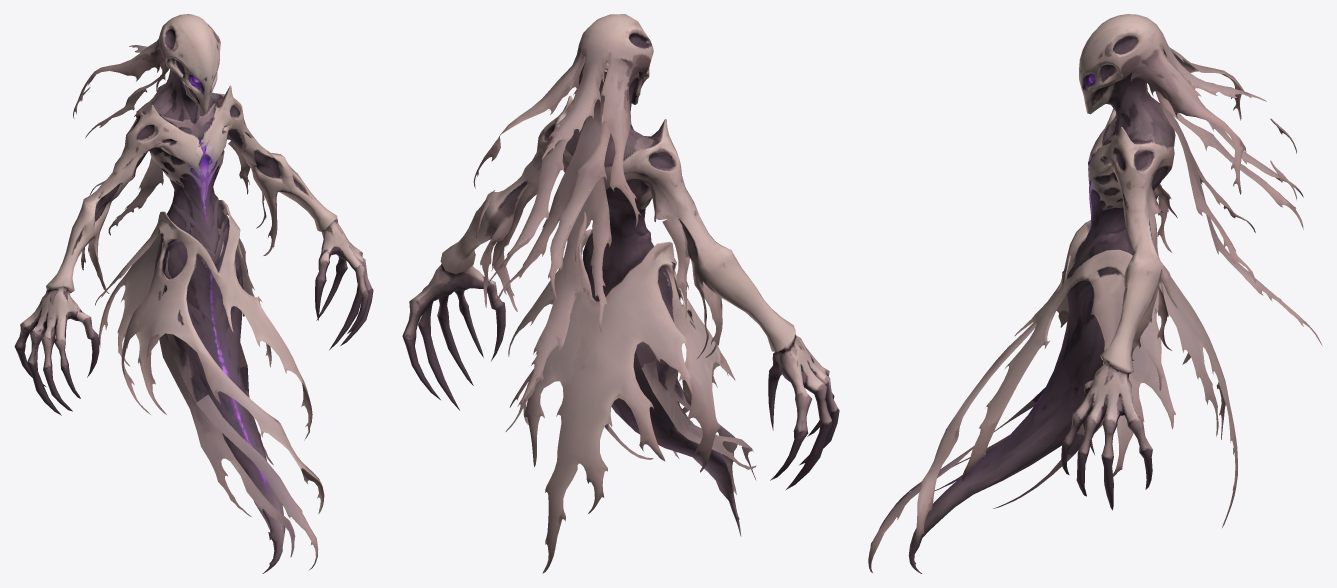
The model's file is mist_walker_wraith.glb.
The picture shows the model from 3 angles, left to right: view 1: azimuth 30°, elevation 25°; view 2: azimuth 150°, elevation 25°; view 3: azimuth 270°, elevation 25°; orthographic projection. The views are drawn at different scales.
Visible parts, largest first — view 1: tripo_node_0b574019-b588-41f3-be3e-ed37d1f12e0c; view 2: tripo_node_0b574019-b588-41f3-be3e-ed37d1f12e0c; view 3: tripo_node_0b574019-b588-41f3-be3e-ed37d1f12e0c.
Boxes of the visible parts, x1=… form: tripo_node_0b574019-b588-41f3-be3e-ed37d1f12e0c: x1=14, y1=14, x2=373, y2=573; tripo_node_0b574019-b588-41f3-be3e-ed37d1f12e0c: x1=402, y1=14, x2=839, y2=573; tripo_node_0b574019-b588-41f3-be3e-ed37d1f12e0c: x1=868, y1=14, x2=1322, y2=573.
Bounding box in the file's own units: 0.728 × 0.9995 × 0.728.
Materials: 1 (1 with a texture image).
